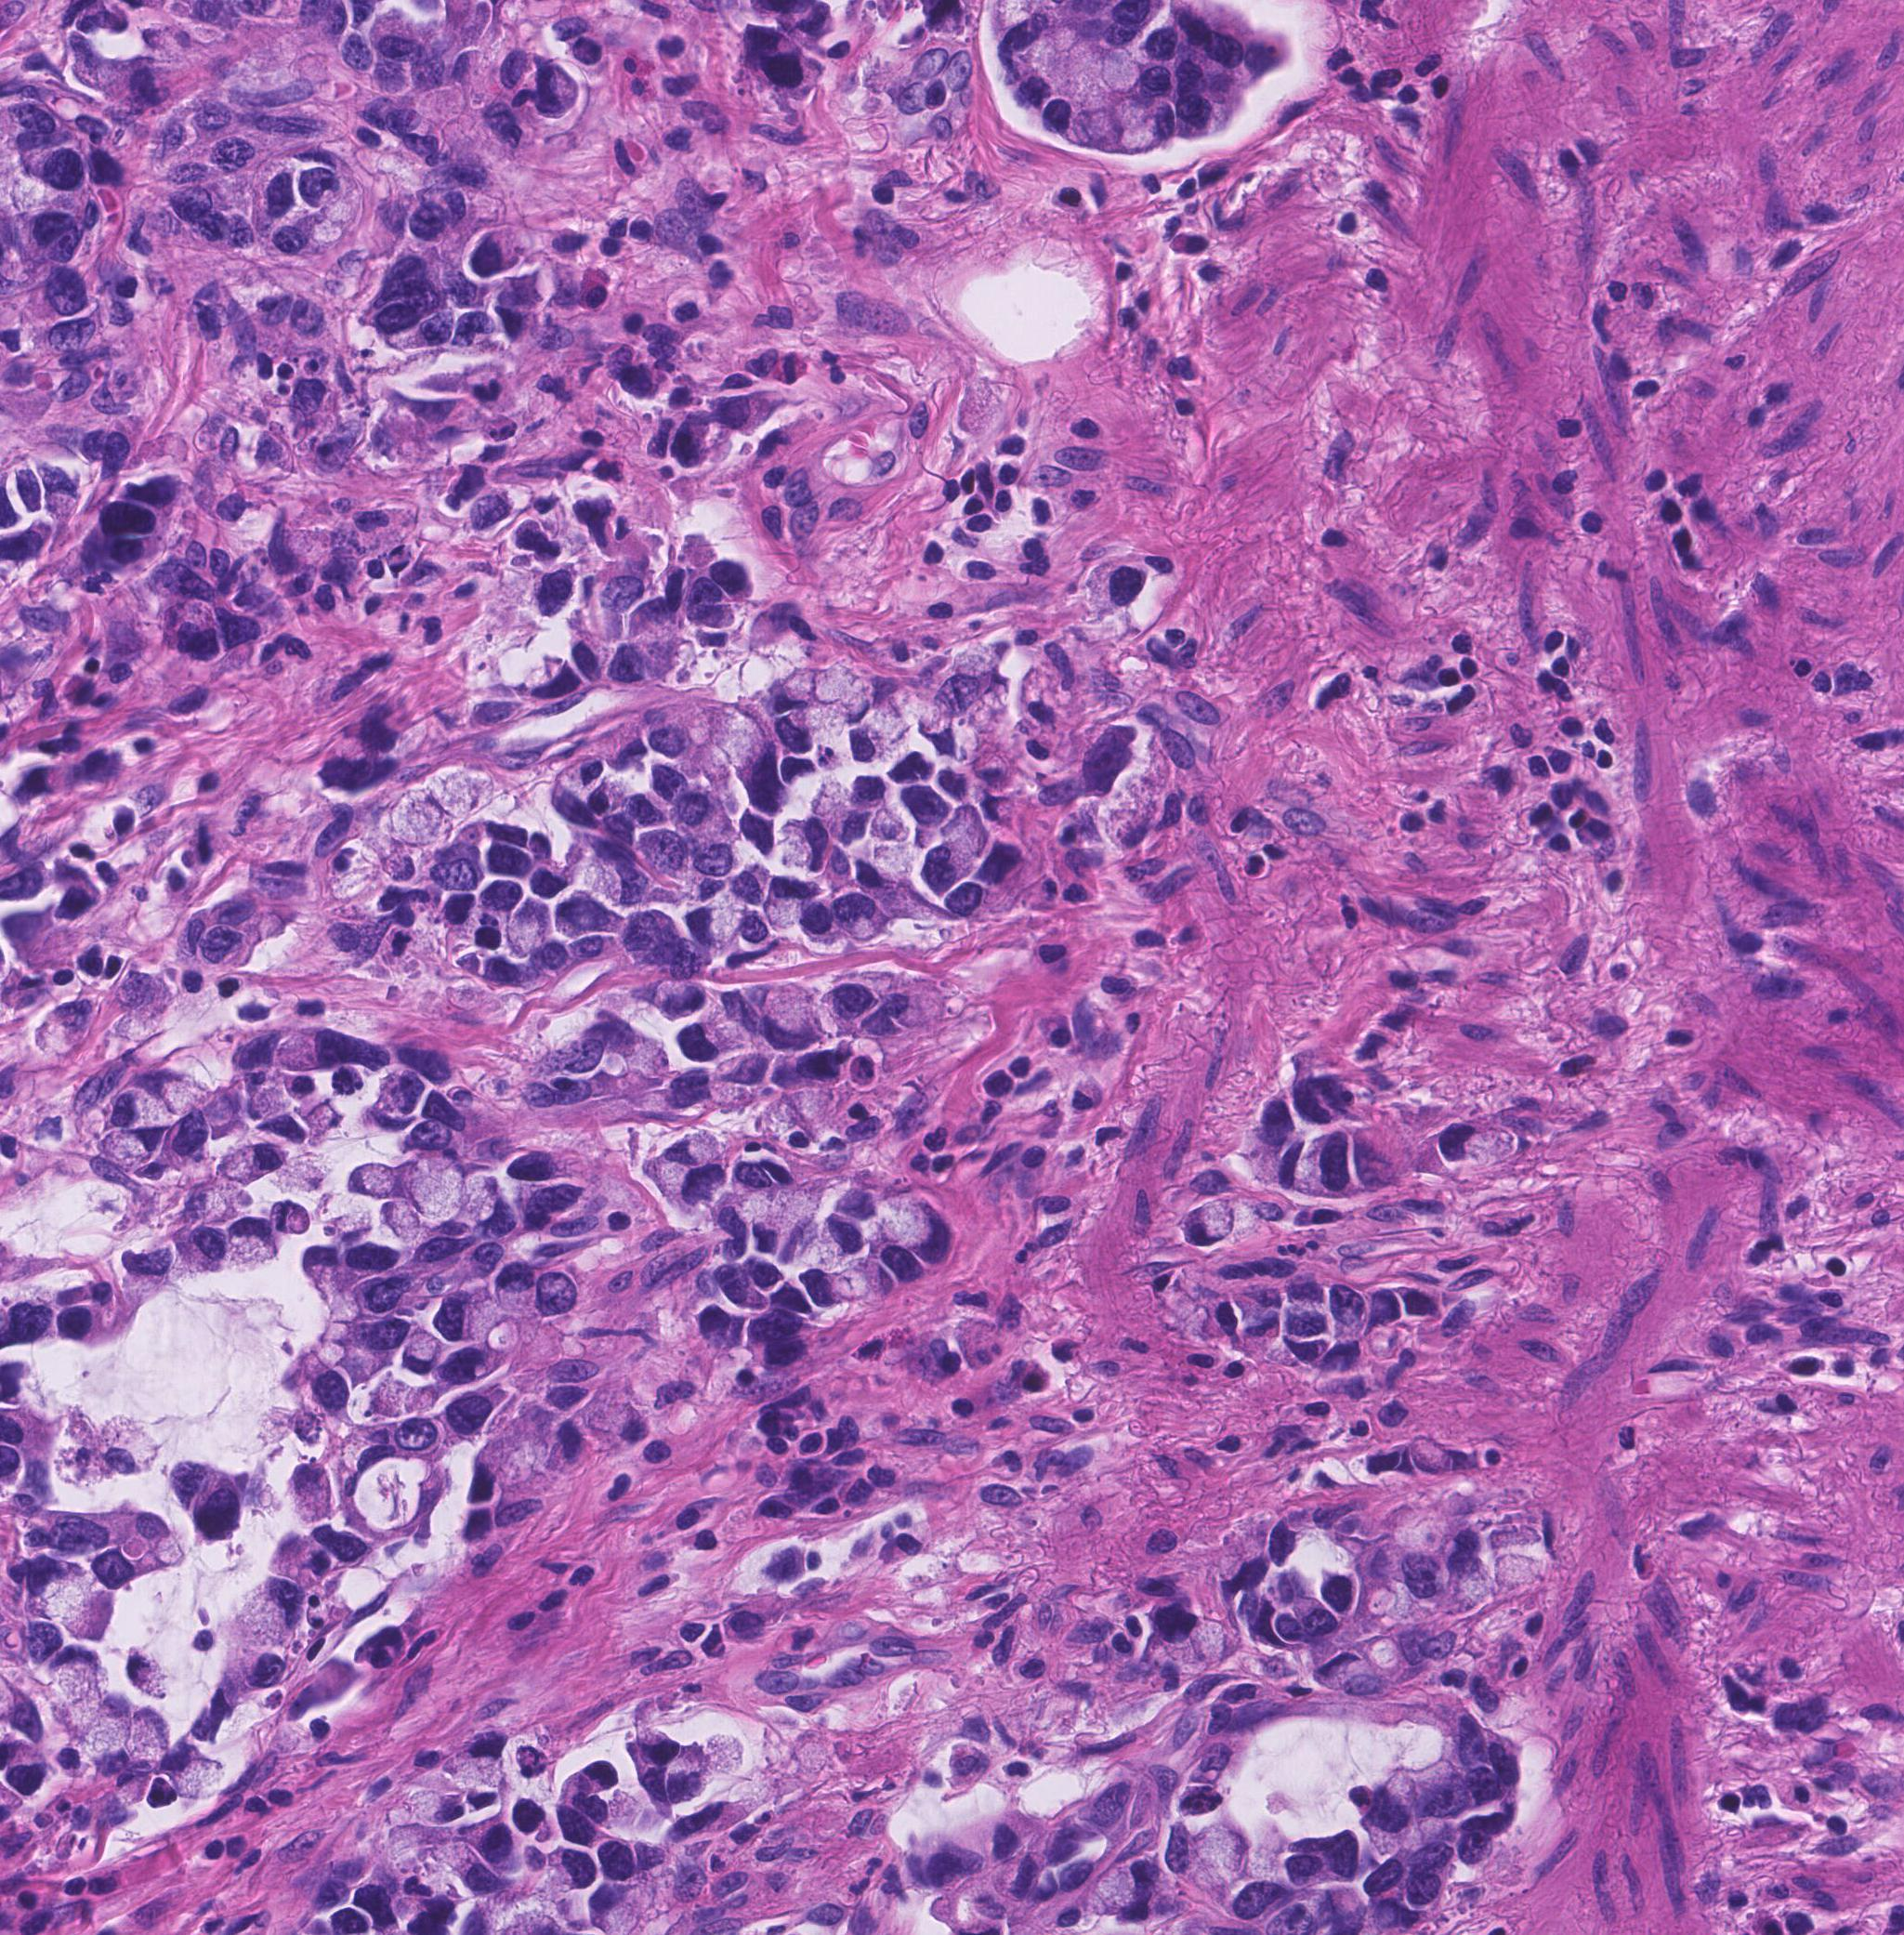ring_cell_cancer: (711, 709, 779, 809), (577, 847, 649, 920), (596, 1011, 666, 1076), (220, 1642, 293, 1703), (282, 1030, 384, 1074), (5, 152, 91, 202), (758, 985, 819, 1055), (408, 1154, 469, 1224), (71, 1689, 138, 1750), (893, 1196, 950, 1264), (244, 1576, 302, 1642), (710, 1048, 778, 1103), (319, 844, 382, 903), (675, 791, 739, 849), (197, 458, 249, 528), (164, 1745, 228, 1801), (460, 1177, 514, 1241), (800, 1264, 870, 1313), (532, 58, 586, 120), (443, 1750, 502, 1806), (521, 657, 584, 709), (680, 1015, 751, 1060), (392, 786, 448, 844), (785, 811, 830, 880), (427, 765, 493, 812), (227, 1213, 281, 1271), (174, 598, 227, 657), (748, 601, 809, 652), (1182, 1201, 1243, 1252), (584, 1396, 652, 1442), (814, 788, 872, 840), (530, 1035, 609, 1074), (377, 929, 443, 974), (1440, 1121, 1503, 1168), (368, 10, 422, 64), (436, 1292, 497, 1339), (919, 690, 964, 753), (171, 1227, 221, 1283), (47, 1647, 103, 1698), (774, 708, 839, 751), (936, 805, 996, 852), (129, 1710, 174, 1771), (502, 901, 551, 957), (924, 837, 971, 894), (884, 985, 942, 1032), (382, 1067, 425, 1128), (867, 840, 919, 891), (431, 844, 483, 894), (689, 903, 743, 952), (645, 978, 708, 1020), (295, 1095, 350, 1142), (220, 1144, 277, 1189), (124, 1653, 181, 1698), (666, 1168, 725, 1212), (343, 1159, 396, 1206), (765, 873, 809, 929), (316, 1201, 375, 1241), (473, 1438, 504, 1513), (295, 1461, 333, 1522), (718, 394, 785, 429), (284, 1147, 333, 1194), (748, 1098, 797, 1145), (954, 633, 1004, 678), (204, 927, 255, 973), (671, 1745, 711, 1801), (797, 903, 844, 950), (837, 894, 887, 938), (751, 1194, 785, 1260), (401, 1327, 443, 1379), (272, 1538, 326, 1578), (112, 1130, 167, 1168), (495, 1266, 541, 1313), (842, 671, 877, 732), (413, 1790, 467, 1827), (736, 655, 785, 696), (237, 1083, 289, 1117), (835, 1182, 881, 1222), (368, 1377, 411, 1417), (975, 744, 1013, 790), (776, 1623, 825, 1658), (670, 1135, 720, 1168), (483, 1316, 520, 1361), (155, 1077, 207, 1109), (570, 1764, 617, 1799), (872, 711, 915, 748), (269, 1196, 312, 1232), (640, 1721, 677, 1764), (790, 1093, 840, 1124), (811, 664, 846, 708), (874, 804, 907, 849), (380, 1201, 417, 1241), (788, 668, 818, 711), (314, 1335, 349, 1370), (328, 1292, 361, 1327), (321, 1321, 354, 1346)
